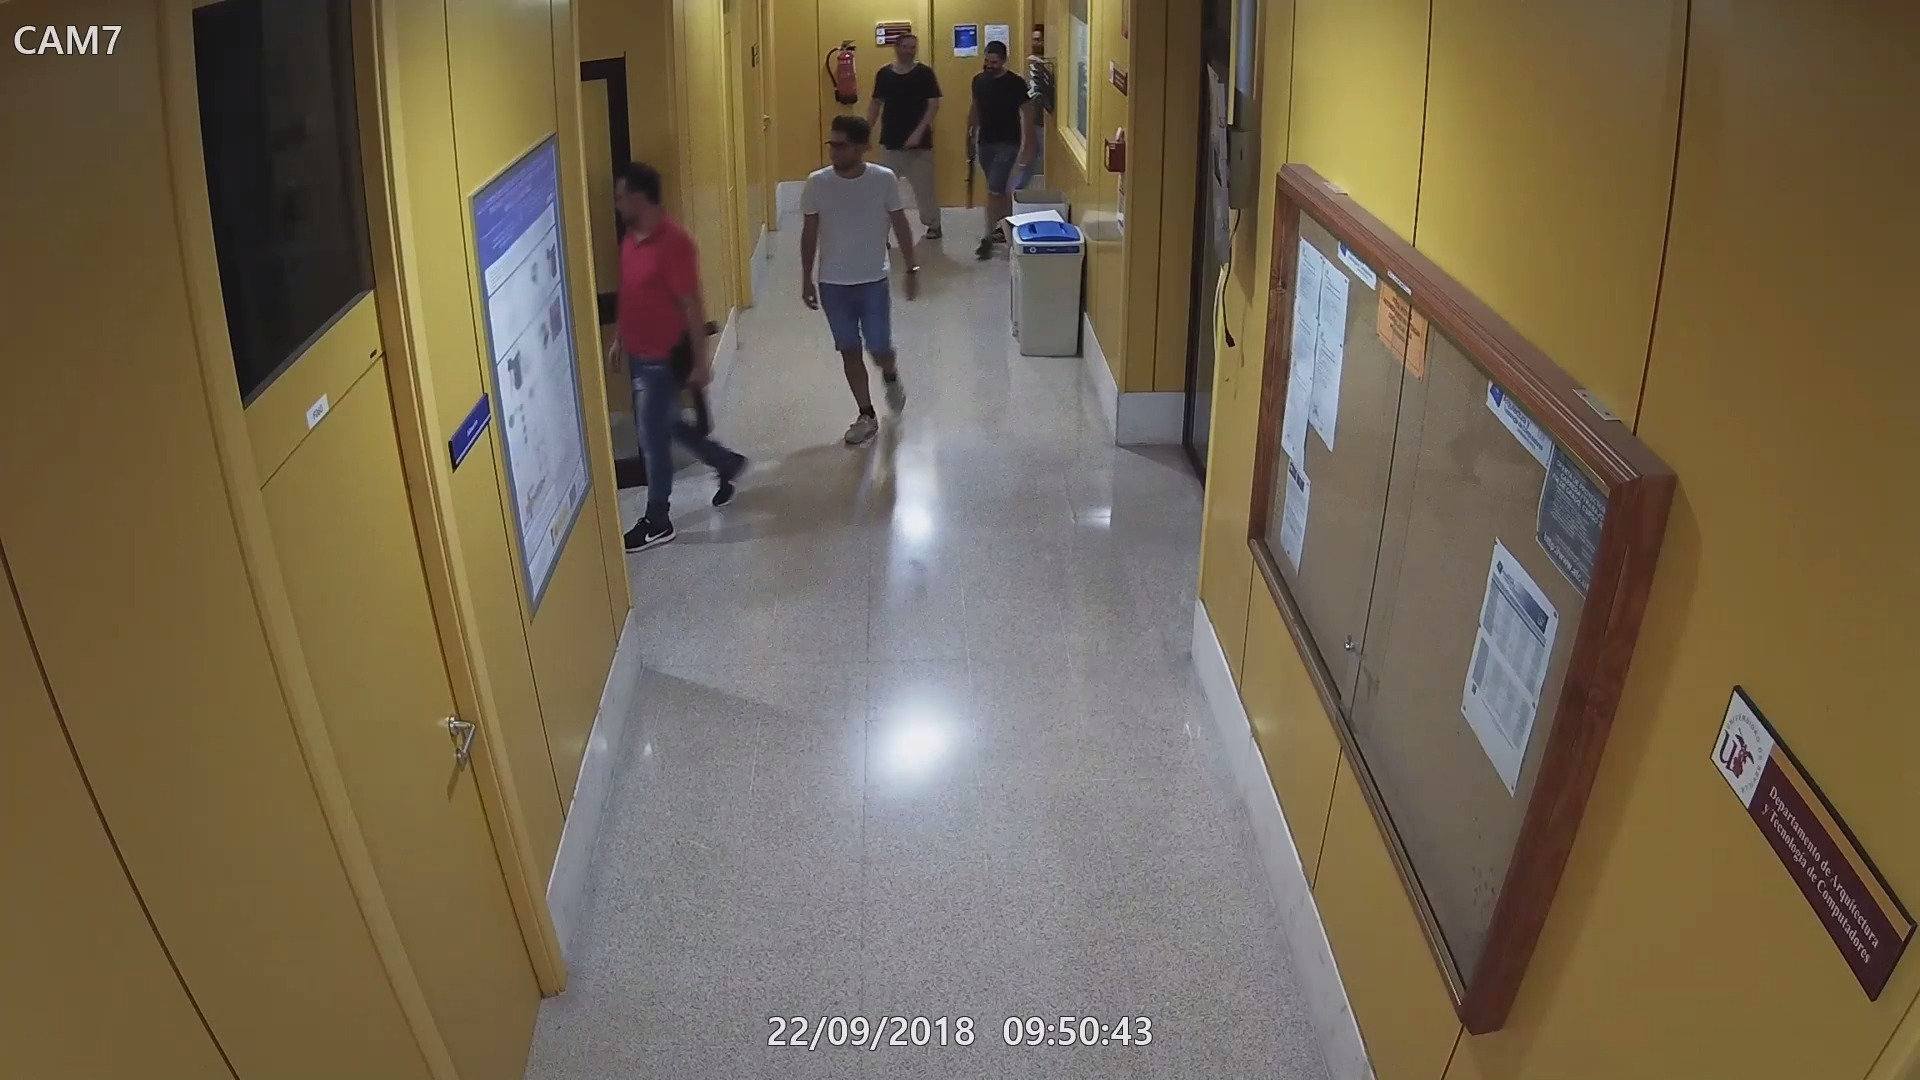Short_rifle: (673, 313, 723, 435), (963, 116, 981, 208)
